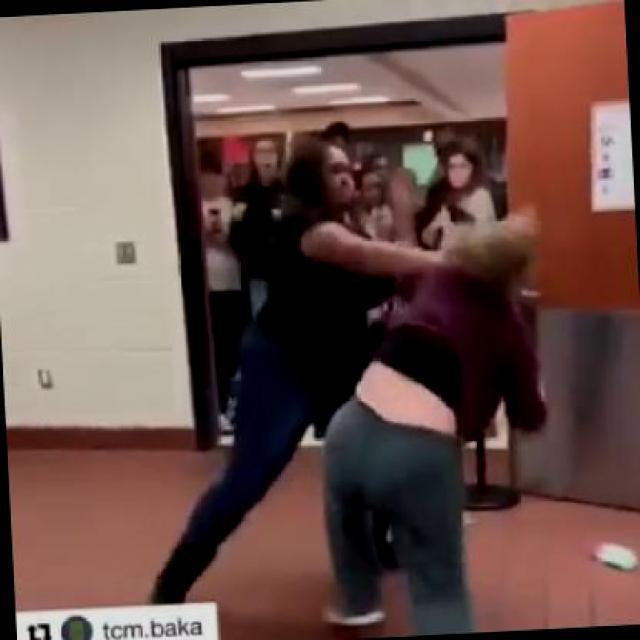fight: (217, 127, 565, 638)
